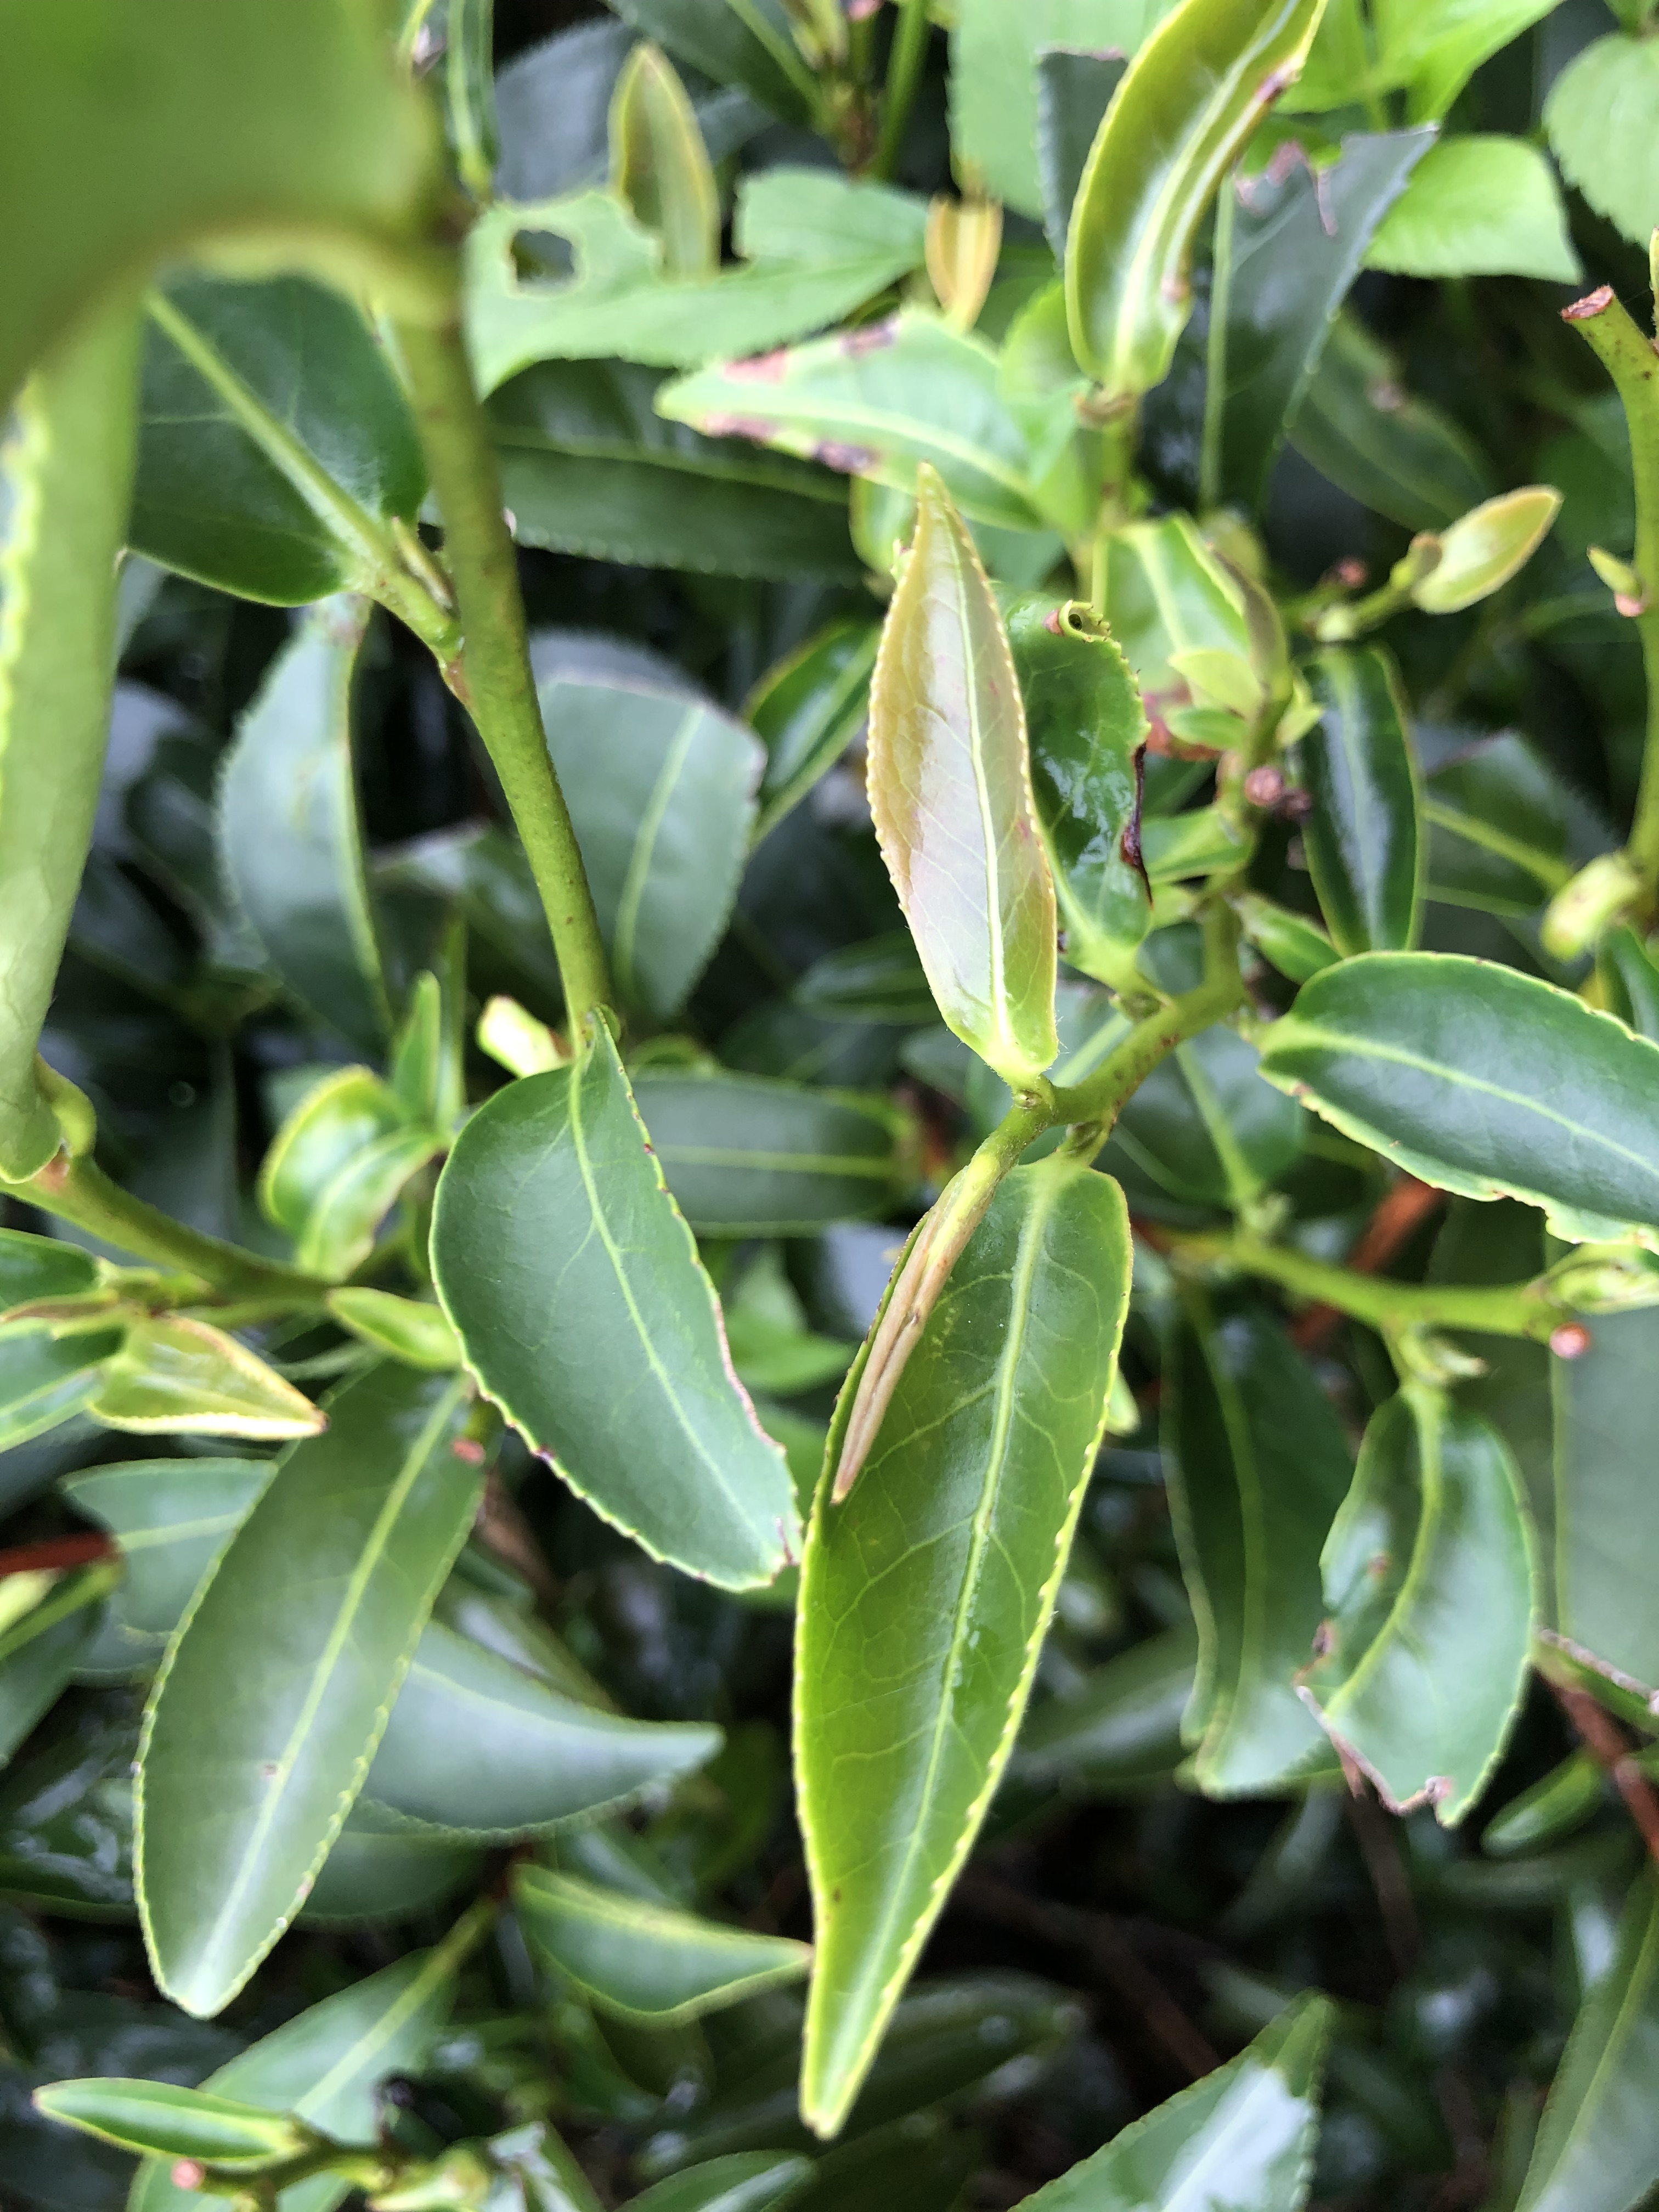formosa: (859, 481, 1065, 1089)
other: (1509, 1291, 1584, 1360)
